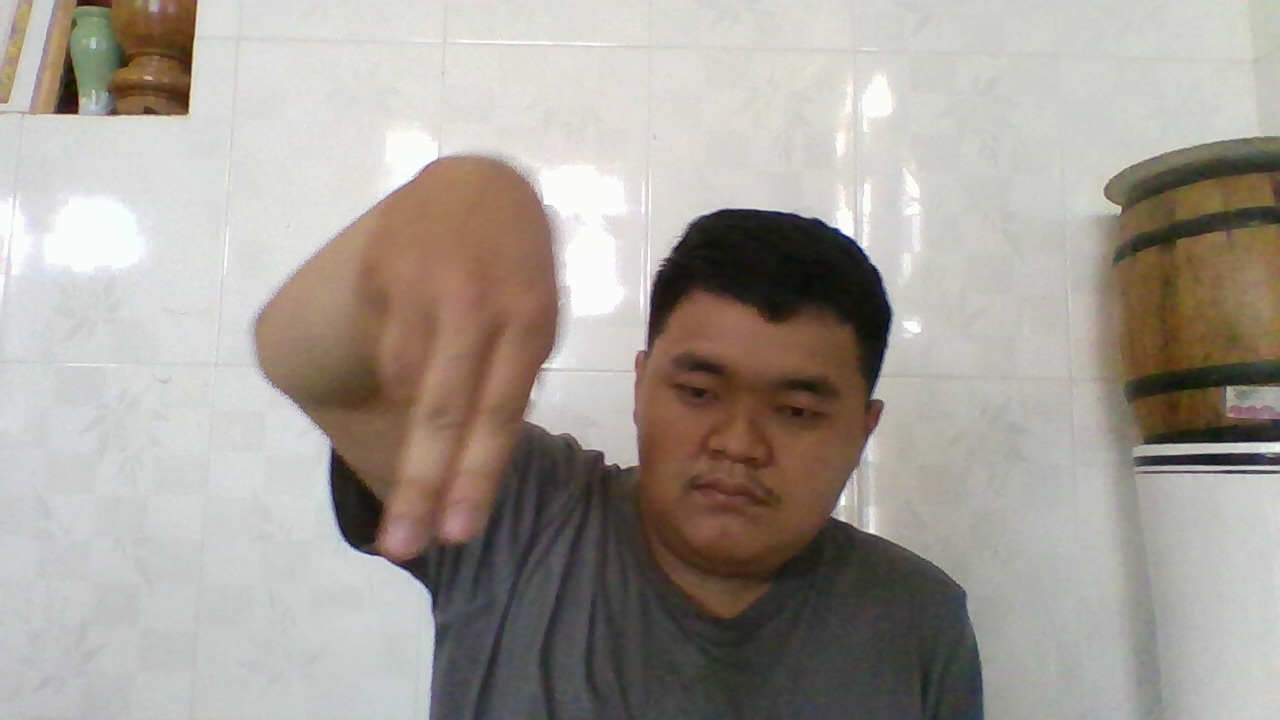N: (351, 157, 553, 561)
